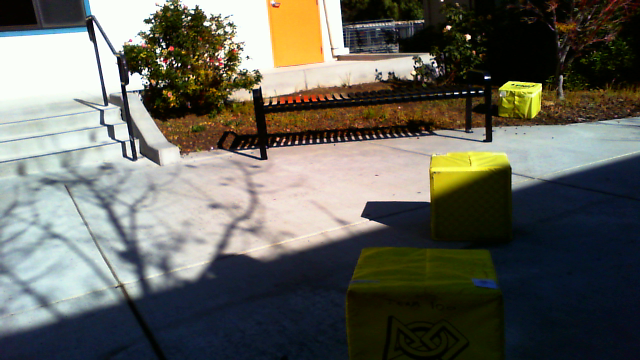cube: (345, 247, 505, 360), (429, 152, 515, 245), (498, 80, 542, 119)
